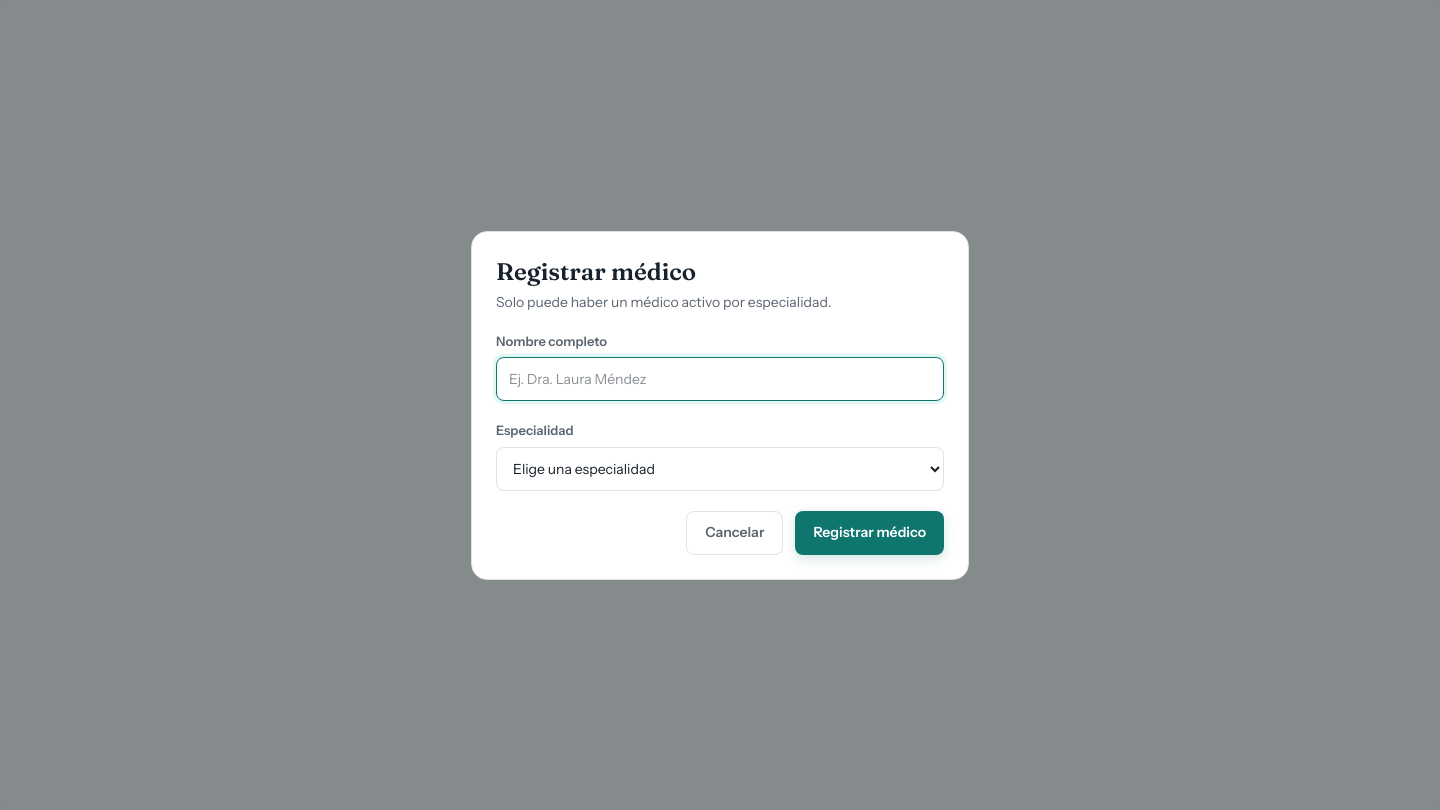
Scenario: DoctorFormDialog › shows the server message when the specialty was taken meanwhile (409)
Step 1. Type "Dra. Laura Méndez" into the field labelled "Nombre completo" → (720, 379), box [496, 357, 944, 401]
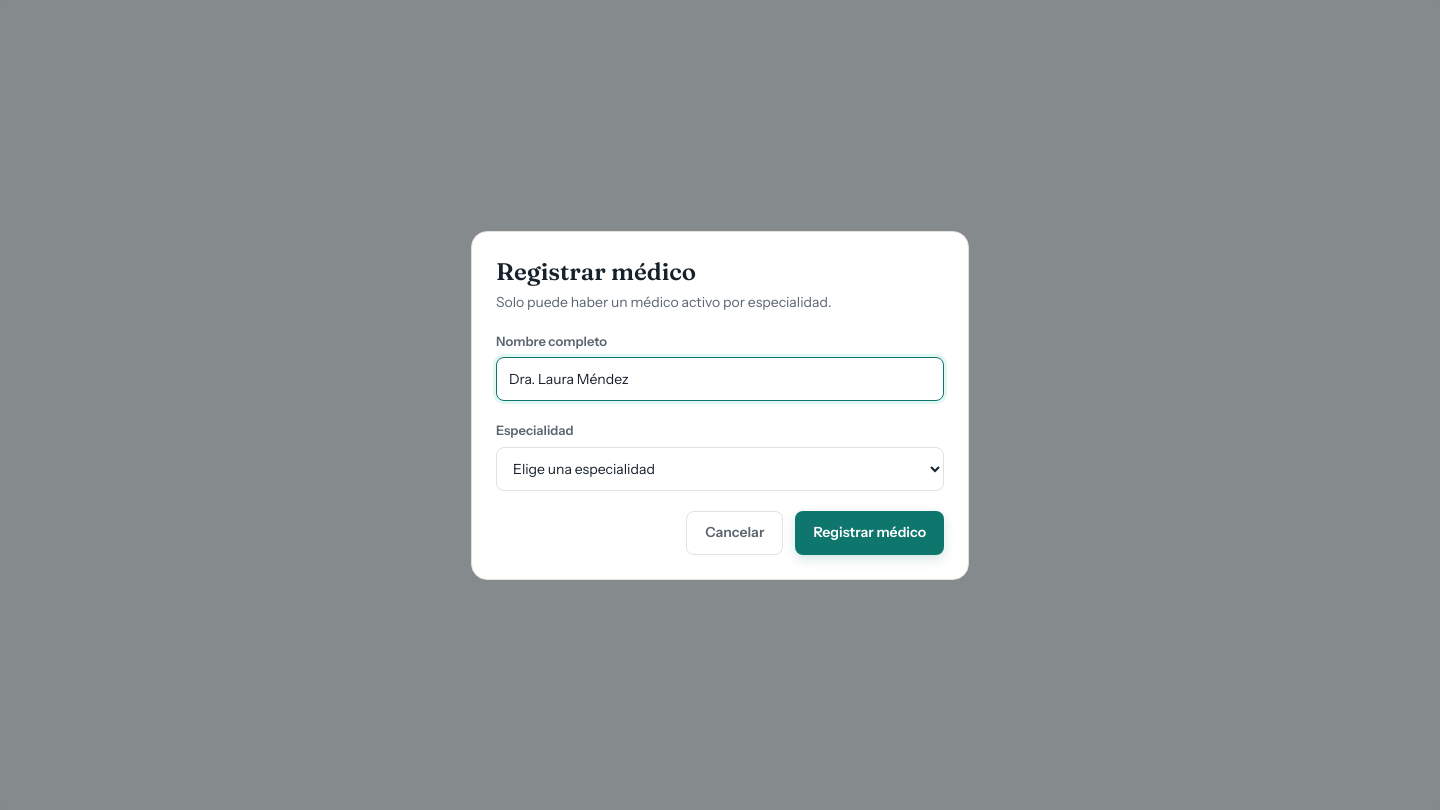
Step 2. Select "Dermatología · sin médico activo" in the dropdown labelled "Especialidad" → (720, 468), box [496, 446, 944, 490]
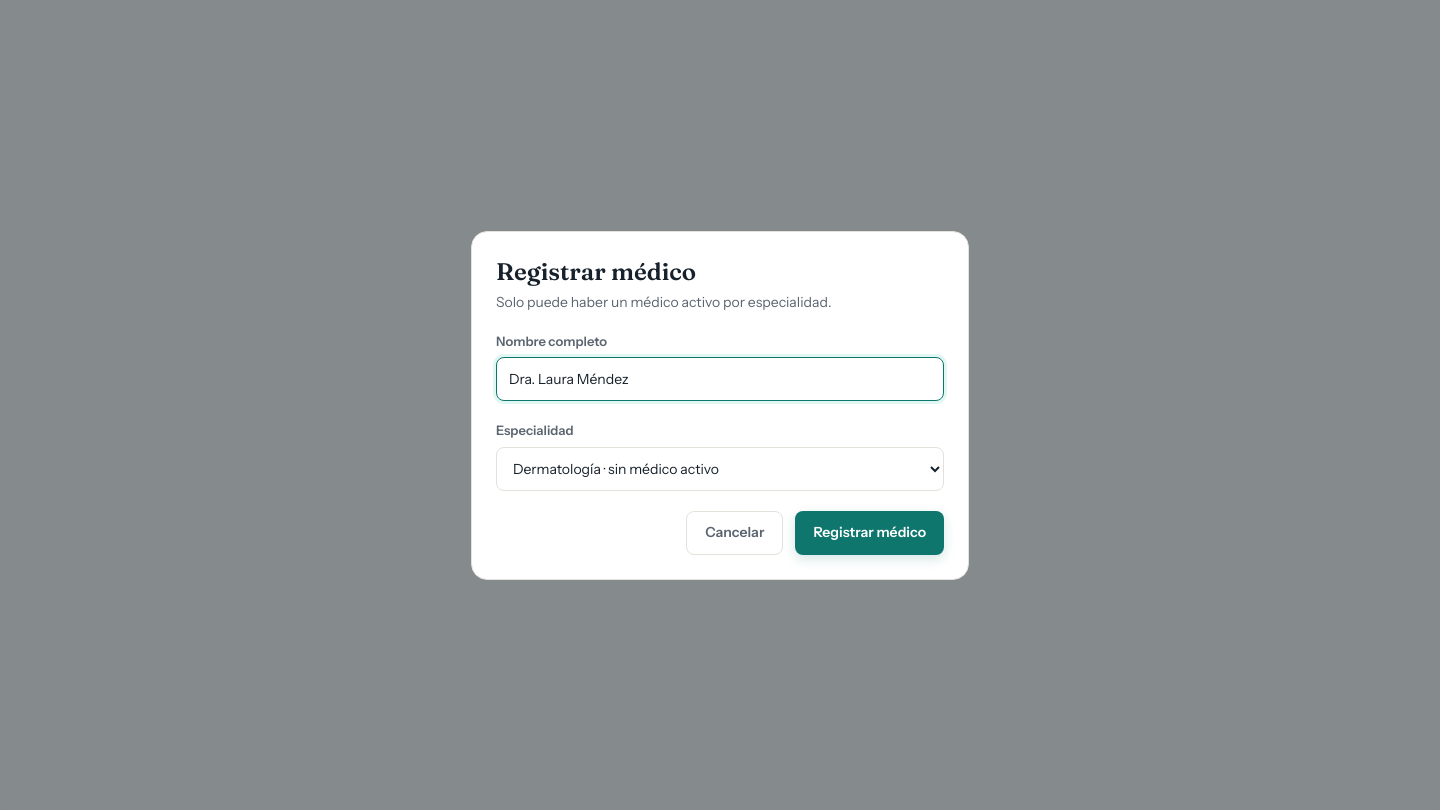
Step 3. Click the button "Registrar médico" → (870, 532), box [795, 510, 944, 554]
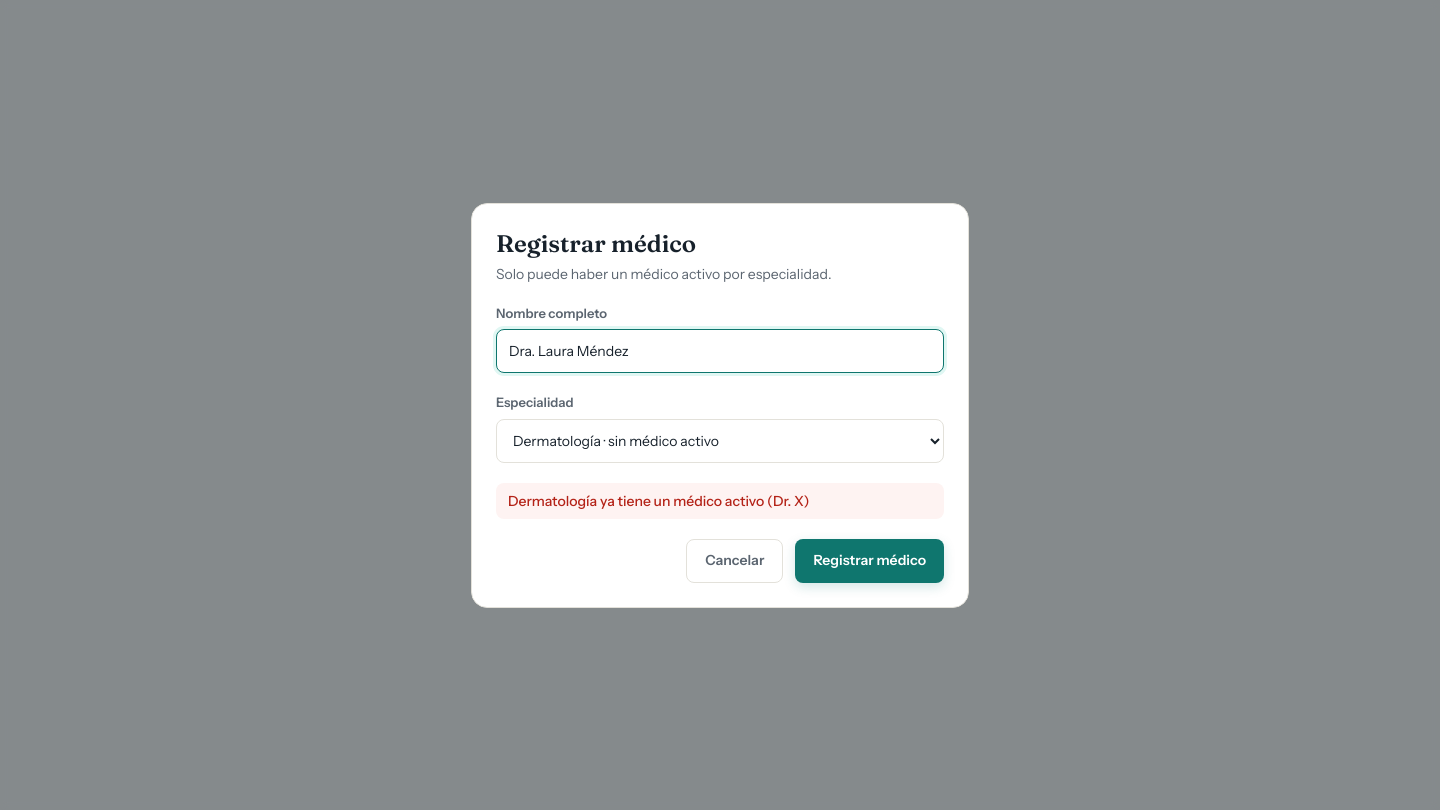
Result: the message reads "Dermatología ya tiene un médico activo (Dr. X)" at [508, 492, 809, 510]
